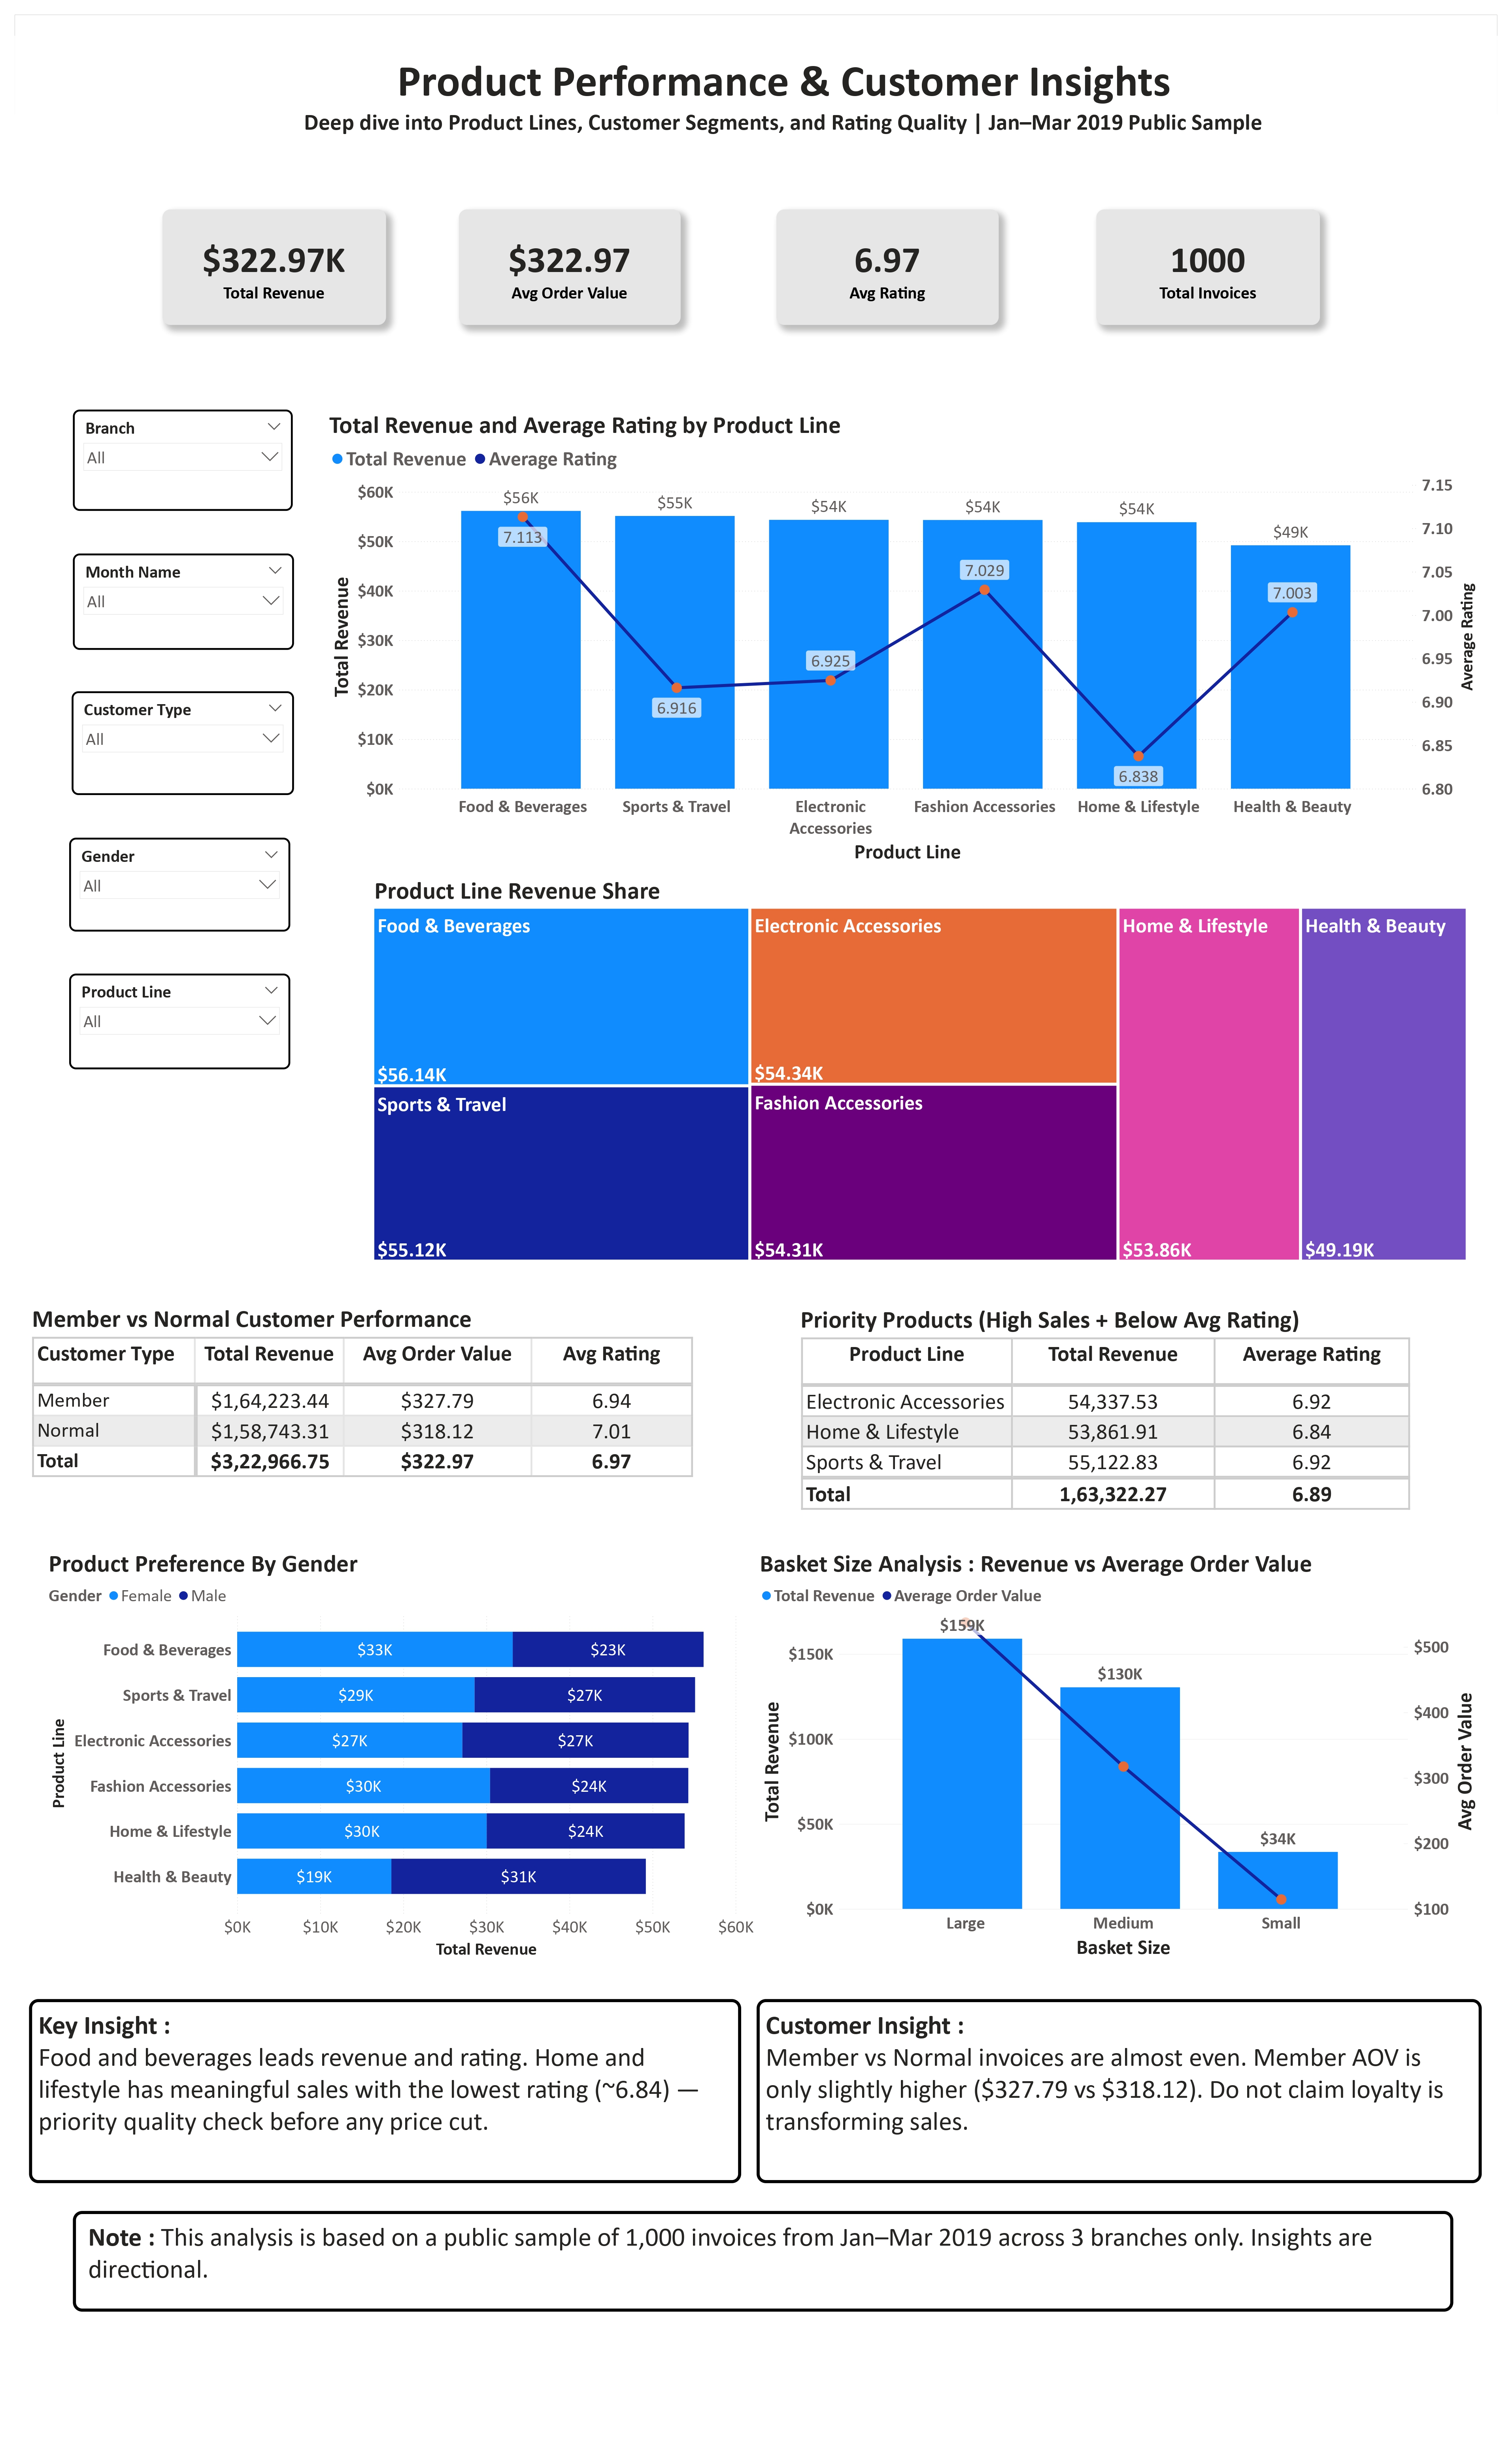

What the dashboard file says about the page in this screenshot:
{"tool":"powerbi","page":{"name":"Page 2","canvas":[2400,3900],"ordinal":1},"visuals":[{"type":"card","fields":{"Values":["super_market_retail.Total Revenue"]},"box":[239,315.3,361.5,186.8],"z":0},{"type":"card","fields":{"Values":["super_market_retail.Average Order Value"]},"box":[719,315.3,359.5,186.8],"z":1000},{"type":"card","fields":{"Values":["super_market_retail.Average Rating"]},"box":[1233.1,315.3,359.5,186.8],"z":2000},{"type":"card","fields":{"Values":["super_market_retail.Total Invoices"]},"box":[1751.3,315.3,361.5,186.8],"z":3000},{"type":"slicer","fields":{"Values":["super_market_retail.branch"]},"box":[94.4,638.7,355.5,164.7],"z":4000},{"type":"slicer","fields":{"Values":["super_market_retail.Month Name"]},"box":[94.4,871.6,357.5,156.7],"z":5000},{"type":"slicer","fields":{"Values":["super_market_retail.customer_type"]},"box":[92.4,1094.6,359.5,168.7],"z":6000},{"type":"slicer","fields":{"Values":["super_market_retail.gender"]},"box":[88.4,1331.5,357.5,152.6],"z":7000},{"type":"slicer","fields":{"Values":["super_market_retail.product_line"]},"box":[88.4,1552.5,357.5,154.6],"z":8000},{"type":"lineClusteredColumnComboChart","fields":{"Category":["super_market_retail.product_line"],"Y":["super_market_retail.Total Revenue"],"Y2":["super_market_retail.Average Rating"]},"box":[504.1,638.7,1869.8,741.1],"z":9000},{"type":"treemap","title":"Product Line Revenue Share","fields":{"Group":["super_market_retail.product_line"],"Values":["super_market_retail.Total Revenue"]},"box":[576.5,1393.3,1777.7,626.9],"z":10000},{"type":"pivotTable","title":"Member vs Normal Customer Performance","fields":{"Rows":["super_market_retail.customer_type"],"Values":["super_market_retail.Total Revenue","super_market_retail.Average Order Value","super_market_retail.Average Rating"]},"box":[22.7,2086.4,1109.1,318.2],"z":11000},{"type":"barChart","title":"Product Preference By Gender","fields":{"Category":["super_market_retail.product_line"],"Y":["super_market_retail.Total Revenue"],"Series":["super_market_retail.gender"]},"box":[50.3,2482.4,1150.8,670.4],"z":12000},{"type":"lineStackedColumnComboChart","title":"Basket Size Analysis : Revenue vs Average Order Value","fields":{"Category":["super_market_retail.Basket Size"],"Y":["super_market_retail.Total Revenue"],"Y2":["super_market_retail.Average Order Value"]},"box":[1201.1,2482.4,1171.4,670.4],"z":13000},{"type":"tableEx","title":"Priority Products (High Sales + Below Avg Rating)","fields":{"Values":["super_market_retail.product_line","super_market_retail.Total Revenue","super_market_retail.Average Rating"]},"box":[1267.5,2086.6,1043.3,352.3],"z":14000},{"type":"textbox","box":[22.9,3212.2,1153.1,297.4],"z":15000},{"type":"textbox","box":[1201.1,3212.2,1173.7,297.4],"z":16000},{"type":"textbox","box":[93.8,3555.4,2235.3,162.4],"z":17000},{"type":"textbox","box":[91.5,57.2,2283.3,217.3],"z":18000}]}

Visuals, with their boxes on the page's 2400x3900 design canvas (x1, y1, x2, y2). These are canvas units, not pixel positions in the 1512x2439 screenshot, which may show the page scaled, cropped or inside an application window:
card - super_market_retail.Total Revenue: [239,315,600,502]
card - super_market_retail.Average Order Value: [719,315,1078,502]
card - super_market_retail.Average Rating: [1233,315,1593,502]
card - super_market_retail.Total Invoices: [1751,315,2113,502]
slicer - super_market_retail.branch: [94,639,450,803]
slicer - super_market_retail.Month Name: [94,872,452,1028]
slicer - super_market_retail.customer_type: [92,1095,452,1263]
slicer - super_market_retail.gender: [88,1332,446,1484]
slicer - super_market_retail.product_line: [88,1552,446,1707]
lineClusteredColumnComboChart - super_market_retail.product_line x super_market_retail.Total Revenue: [504,639,2374,1380]
"Product Line Revenue Share" treemap: [576,1393,2354,2020]
"Member vs Normal Customer Performance" pivotTable: [23,2086,1132,2405]
"Product Preference By Gender" barChart: [50,2482,1201,3153]
"Basket Size Analysis : Revenue vs Average Order Value" lineStackedColumnComboChart: [1201,2482,2372,3153]
"Priority Products (High Sales + Below Avg Rating)" tableEx: [1268,2087,2311,2439]
textbox: [23,3212,1176,3510]
textbox: [1201,3212,2375,3510]
textbox: [94,3555,2329,3718]
textbox: [92,57,2375,274]
